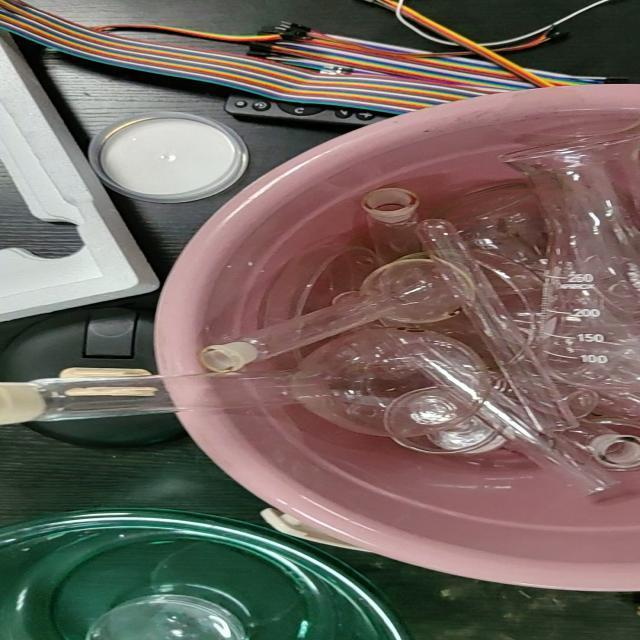cups: (360, 186, 422, 266)
